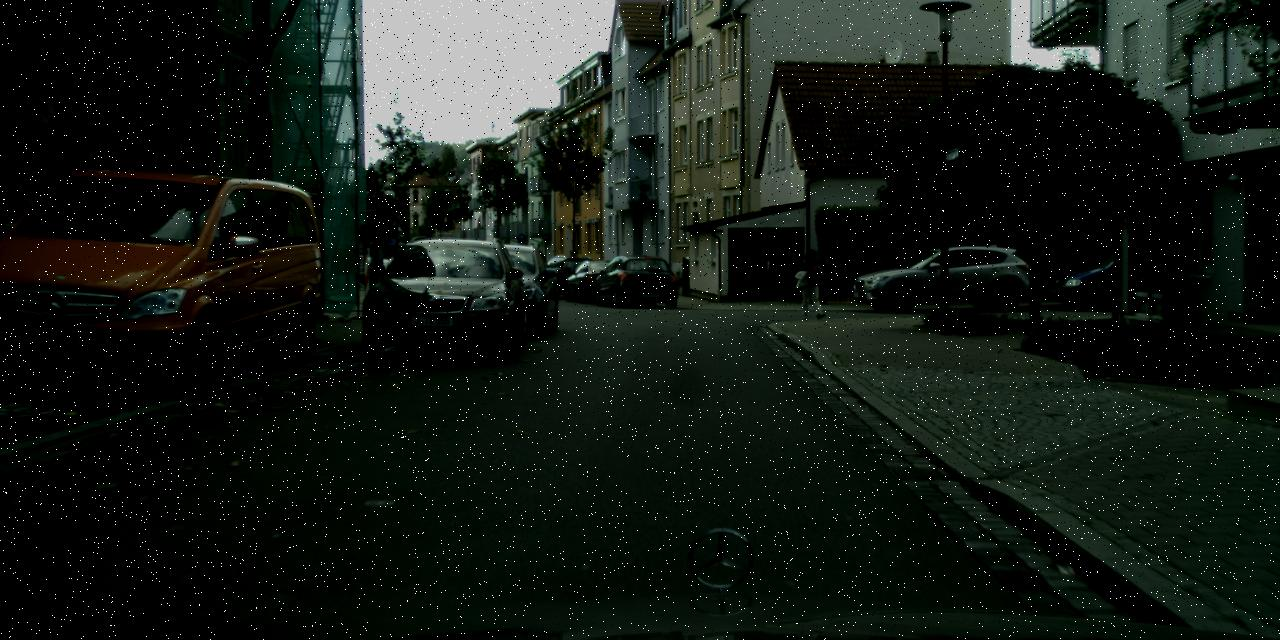ped: (798, 249, 826, 318)
